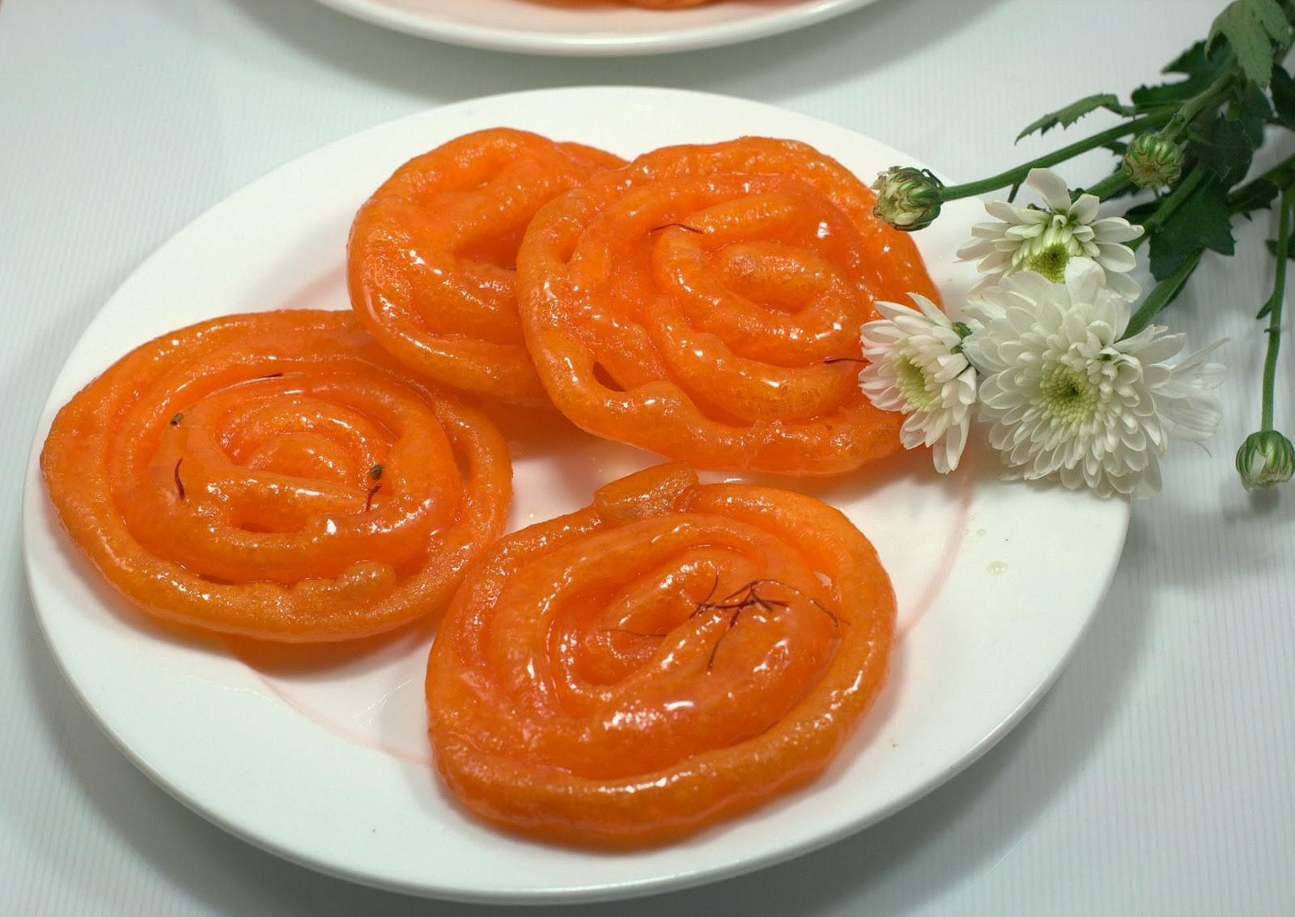Jalebi: (37, 112, 951, 853)
